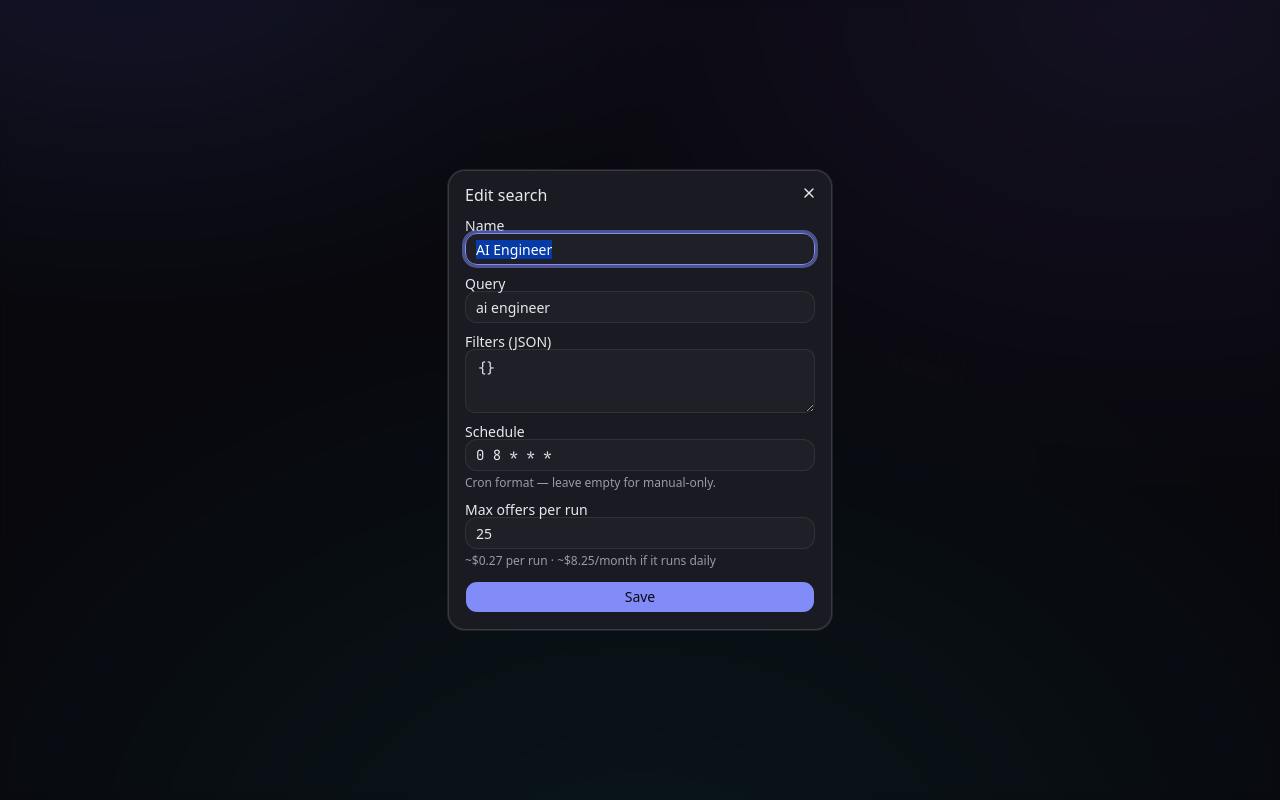
clearing the cap warns that the search is uncapped
This screenshot has width=1280, height=800.
Clear the field labelled "Max offers per run" at {"x": 640, "y": 533}, box x1=465 y1=517 x2=815 y2=549
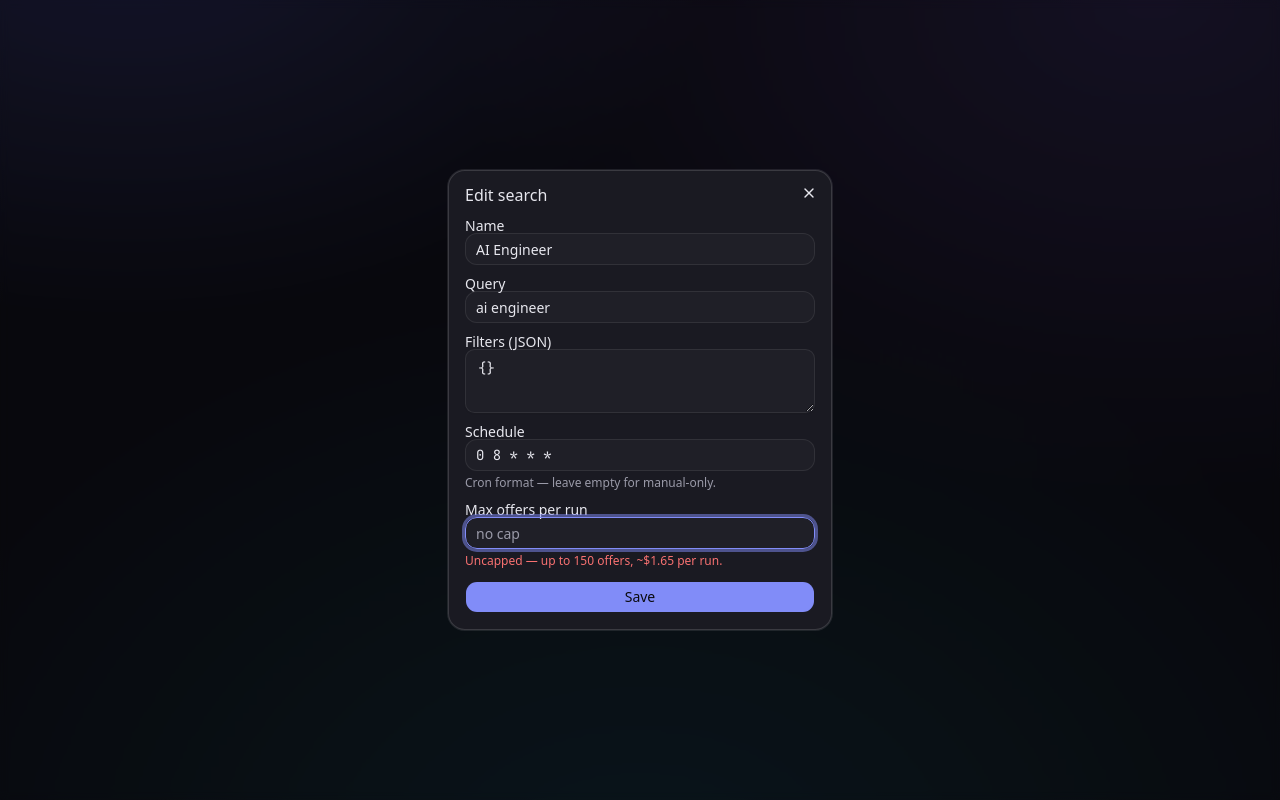
Expected: the text "Uncapped — up to 150 offers, ~$1.65 per run." is shown, x1=465 y1=552 x2=722 y2=569
